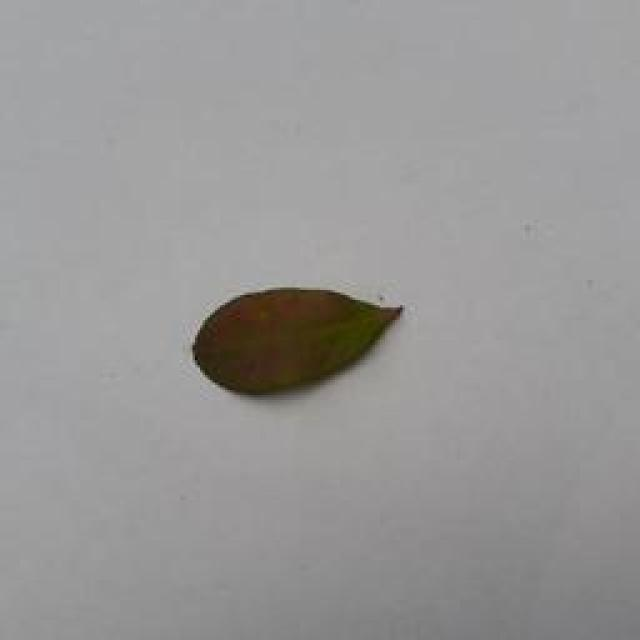Red Leaf Spot: (162, 254, 422, 416)
